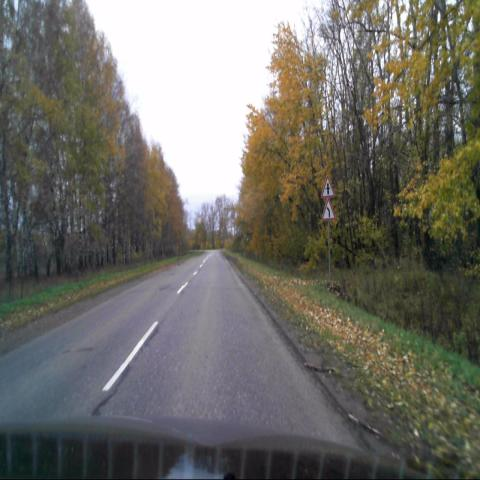1_11_1: (322, 199, 335, 220)
